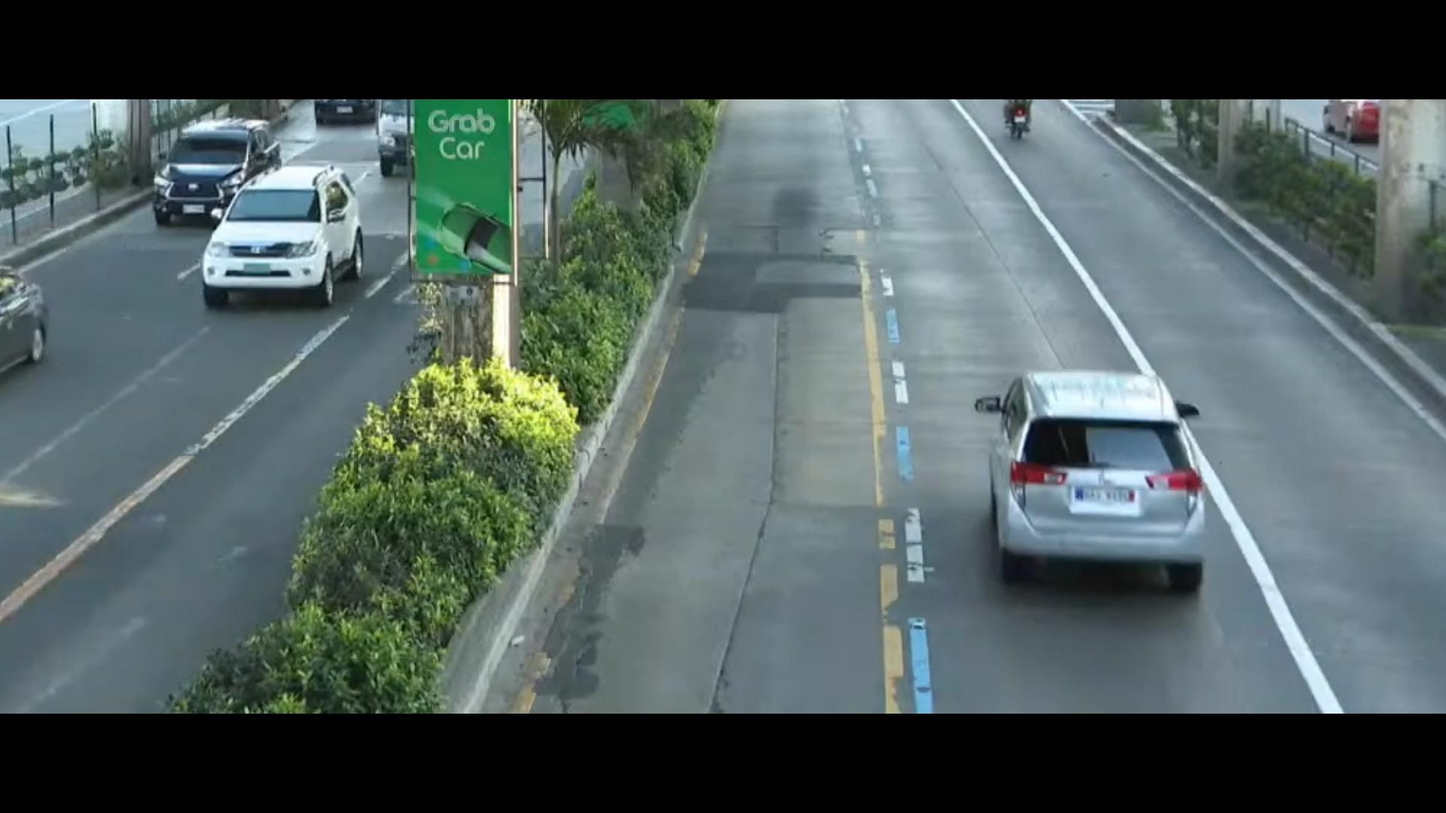SUV: (923, 324, 1246, 609), (177, 159, 372, 328), (125, 111, 287, 234)
